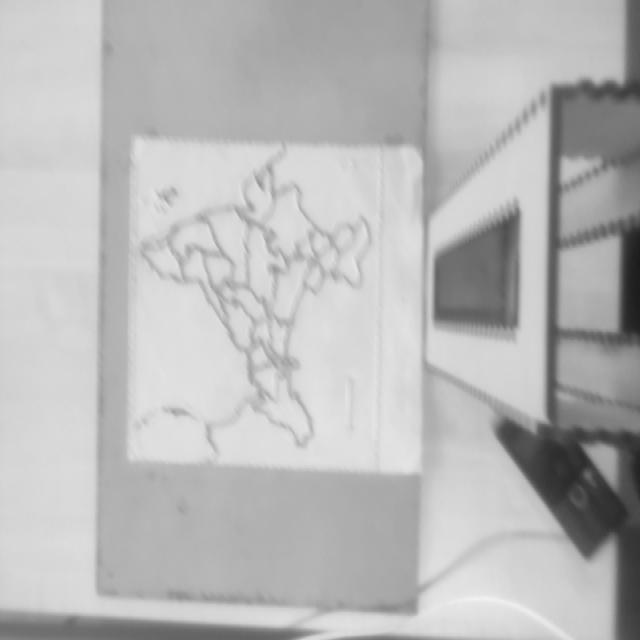map: (128, 138, 382, 471)
